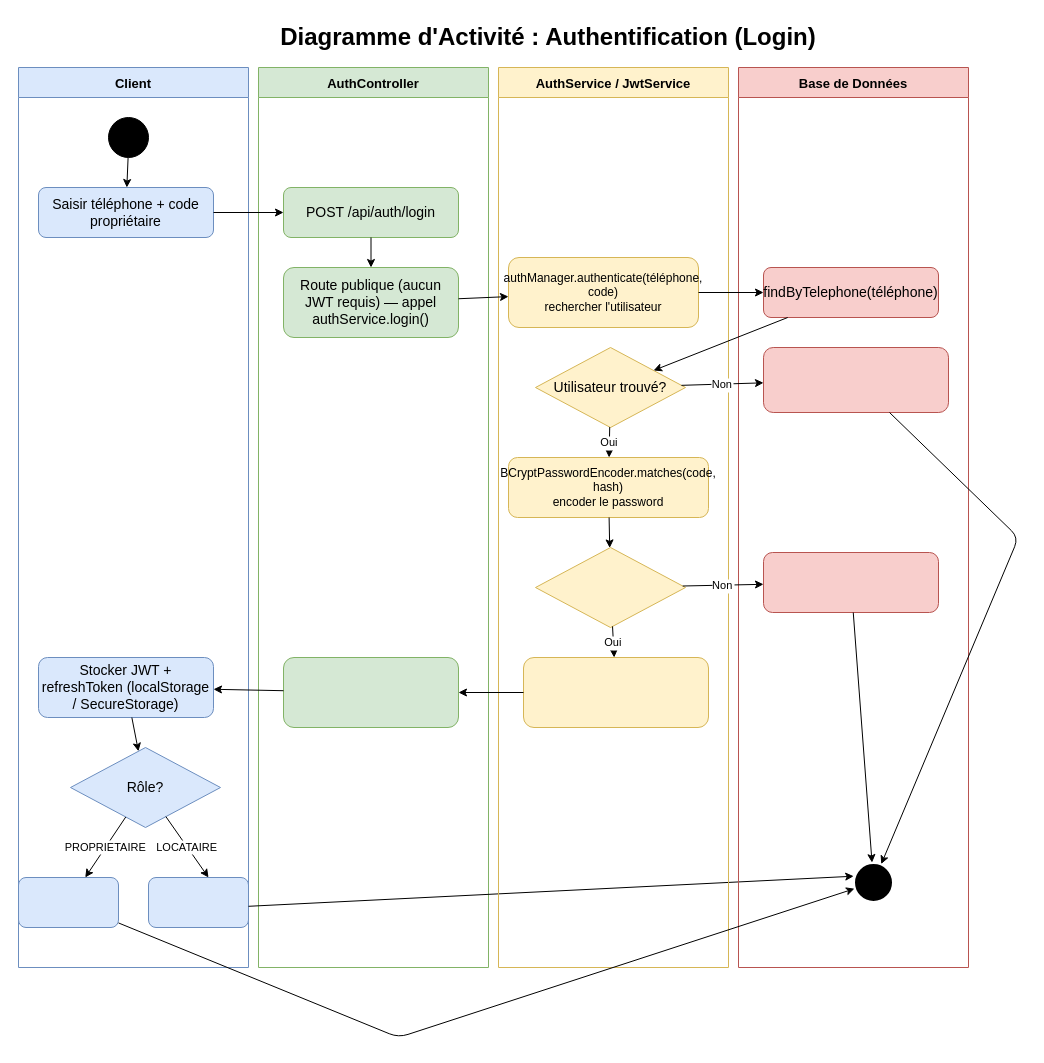
This 1044x1063 diagram has some shape labels left out. The centre of each missing label's shape, as x and y in pixels:
"BadCredentialsException → HTTP 401" belongs at [850,582].
"Code correct?" belongs at [610,587].
"Dashboard LOCATAIRE" belongs at [198,902].
"Dashboard PROPRIETAIRE" belongs at [68,902].
"generateToken() → JWT 15min generateRefreshToken() → 7 jours" belongs at [615,692].
"Retourner AuthResponse (uuid, token, refreshToken, role, profil, téléphone)" belongs at [370,692].
"UsernameNotFoundException → HTTP 401" belongs at [855,379].
